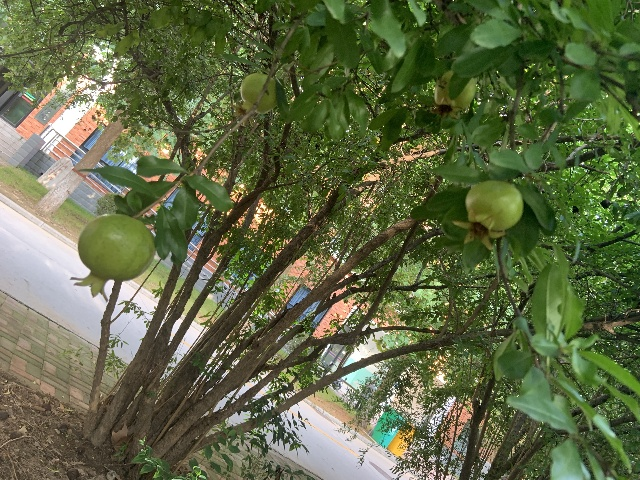mid-growth: (70, 213, 156, 300), (450, 179, 523, 252), (228, 72, 276, 126), (431, 69, 476, 121)
